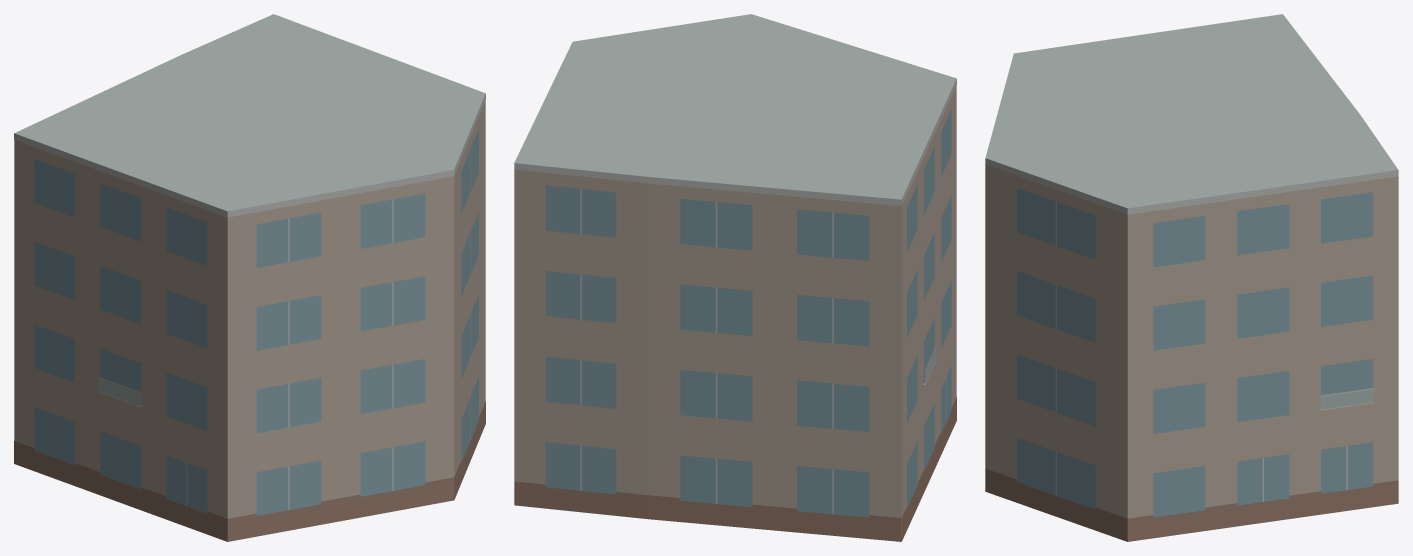
The model's file is survey-upis-33044913.glb.
The picture shows the model from 3 angles, left to right: view 1: azimuth 30°, elevation 25°; view 2: azimuth 150°, elevation 25°; view 3: azimuth 270°, elevation 25°; orthographic projection. The views are drawn at different scales.
Parts seen in each view (by area): view 1: survey-upis-33044913.tmp; view 2: survey-upis-33044913.tmp; view 3: survey-upis-33044913.tmp.
Boxes of the visible parts, box(x1,y1,x2,y2) form: survey-upis-33044913.tmp: box(14, 14, 485, 541); survey-upis-33044913.tmp: box(514, 14, 956, 541); survey-upis-33044913.tmp: box(985, 14, 1398, 541).
Size of the model in its own units: 16.03 by 12.82 by 14.41.
